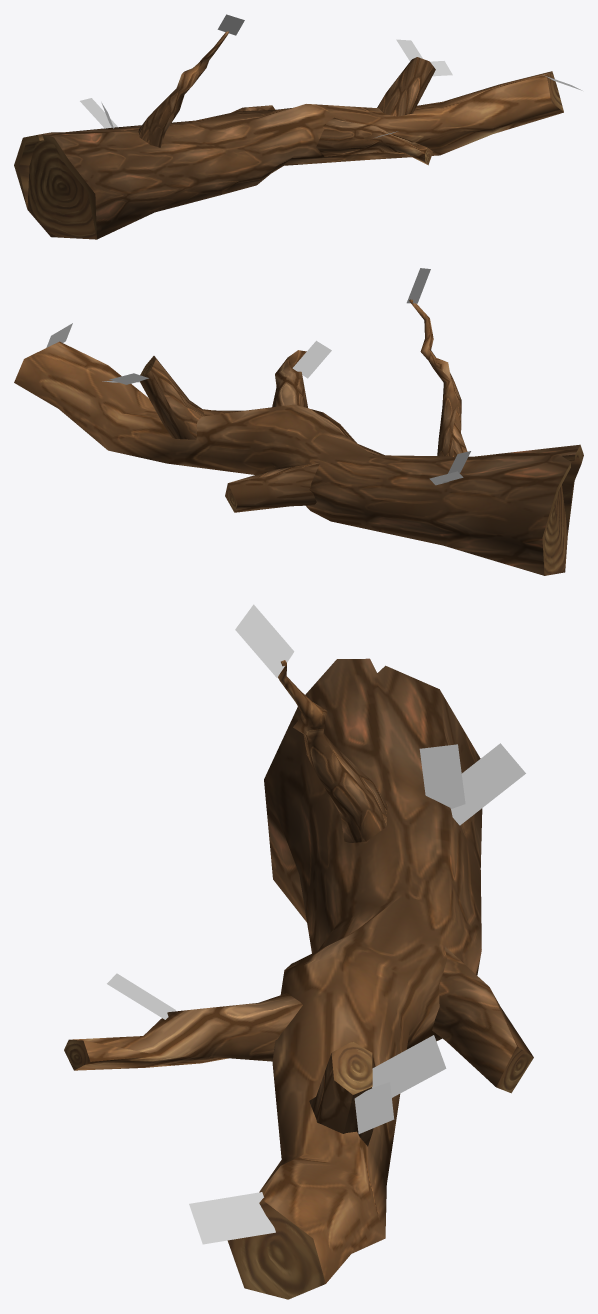
File: Tree_Fall1.fbx
3 views of the same model, one above another, from view 1: azimuth 30°, elevation 25°; view 2: azimuth 150°, elevation 25°; view 3: azimuth 270°, elevation 25° (orthographic). The views are drawn at different scales.
Parts seen in each view (by area): view 1: Tree_fall_01_blue; view 2: Tree_fall_01_blue; view 3: Tree_fall_01_blue.
Boxes of the visible parts, <box> form: Tree_fall_01_blue: <box>14,14,582,239</box>; Tree_fall_01_blue: <box>14,268,583,575</box>; Tree_fall_01_blue: <box>64,604,533,1299</box>.
Bounding box in the file's own units: 3.74 × 1.48 × 1.51.
